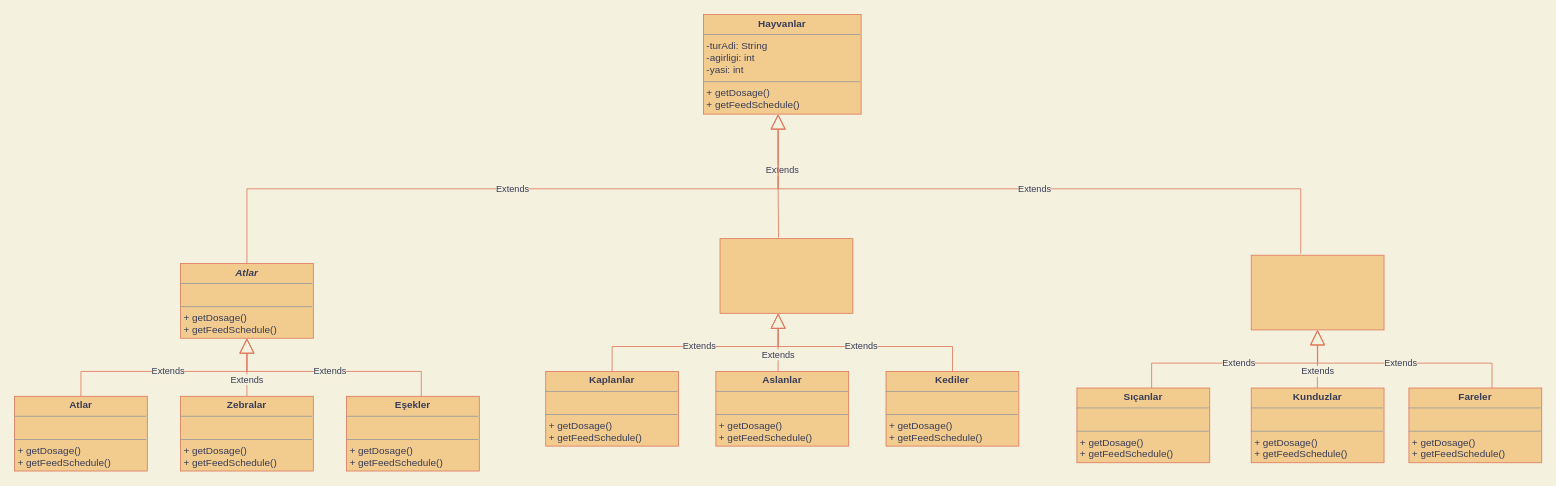
Image size: 1556x486. Some labels were removed from this diagram. Here are the shapes that lost their labels. From the top down, the centre of each, then its label:
the point at 786,275: Kedigiller + getDosage() + getFeedSchedule()
the point at 1317,292: Kemirgenler + getDosage() + getFeedSchedule()
